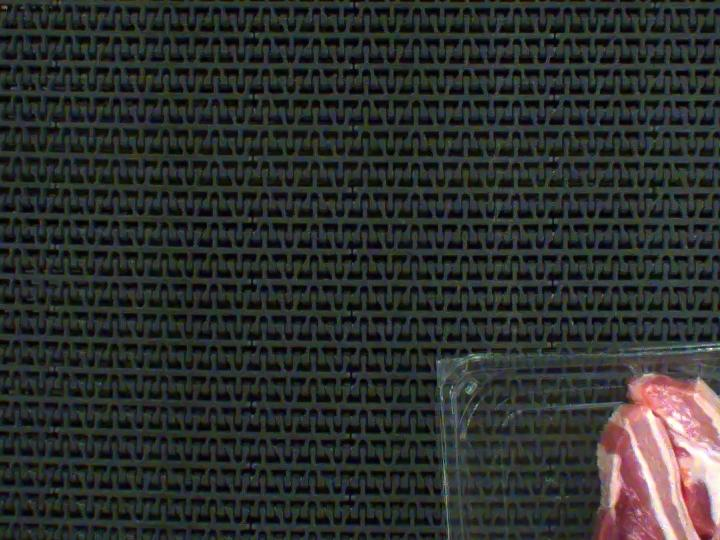packaging-error: (571, 300, 720, 402)
